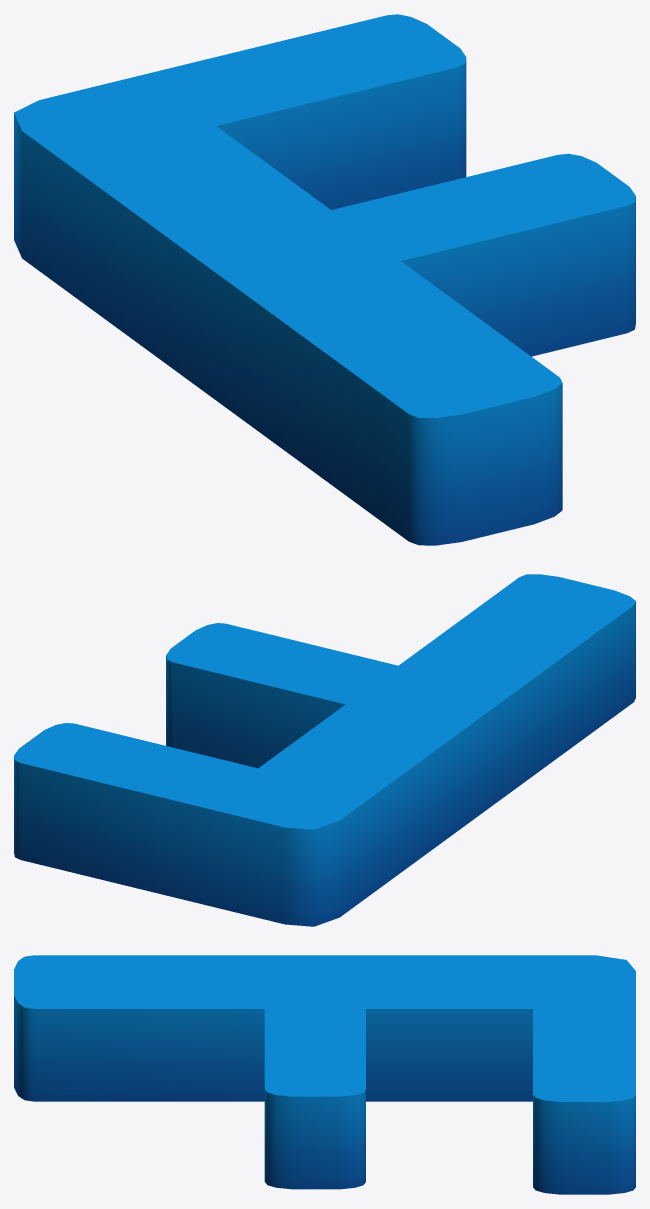
File: letter_F.fbx
3 views of the same model, one above another, from view 1: azimuth 30°, elevation 25°; view 2: azimuth 150°, elevation 25°; view 3: azimuth 270°, elevation 25° (orthographic). The views are drawn at different scales.
Parts seen in each view (by area): view 1: letter_F; view 2: letter_F; view 3: letter_F.
Part boxes in pixels (x1,y1,x2,y2): letter_F: (14,14,635,545); letter_F: (14,574,635,926); letter_F: (14,955,635,1194).
Bounding box in the file's own units: 12.72 × 3.75 × 22.81.
